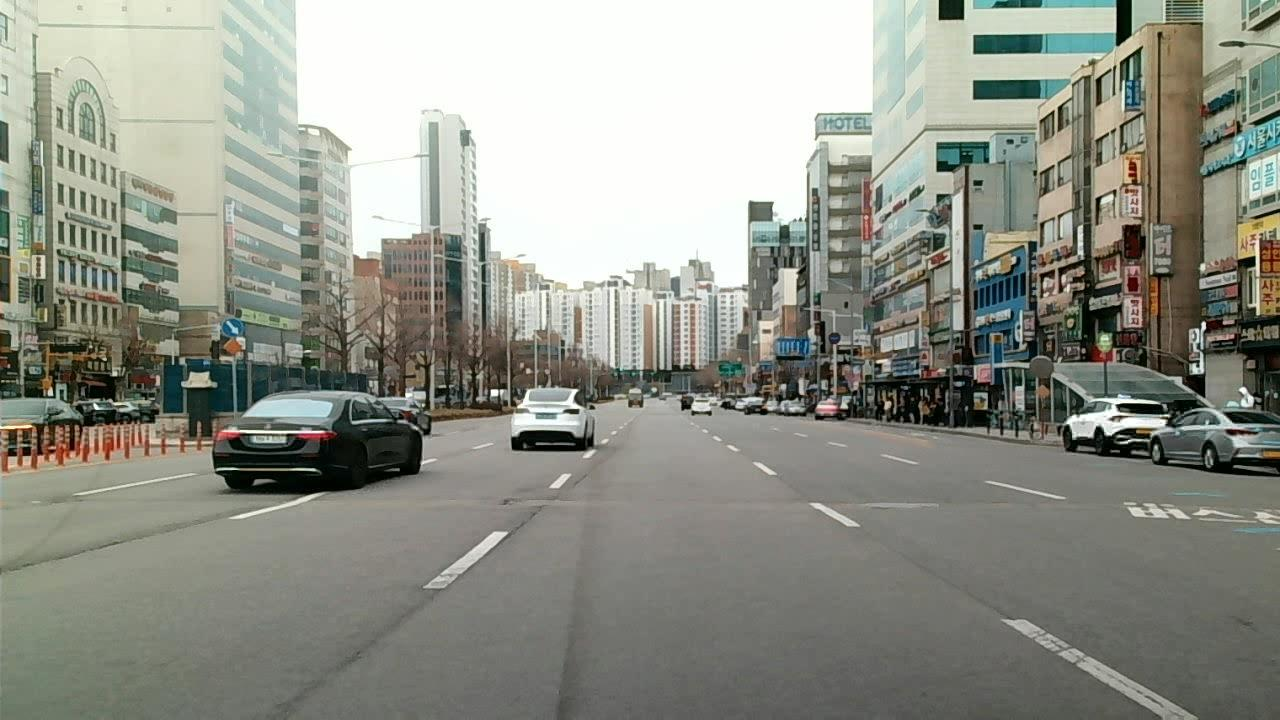vcrack: (311, 592, 436, 700), (938, 577, 1009, 616), (3, 548, 75, 575), (497, 504, 547, 541), (148, 517, 224, 538), (79, 534, 143, 555), (772, 474, 810, 501), (570, 473, 590, 489)
